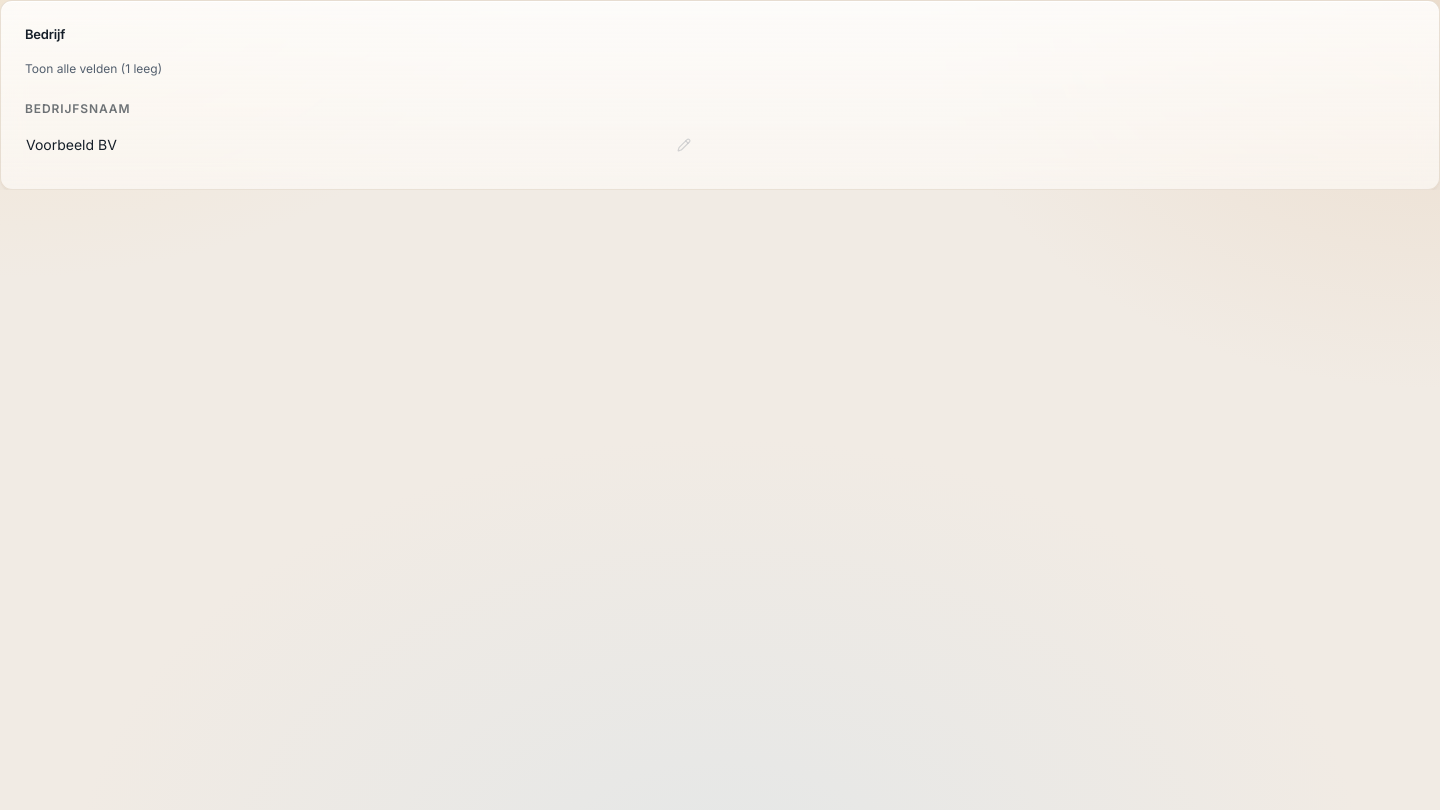
Test case: Direct bewerken Relaties: klik op afzonderlijke veldwaarde › toont gevulde velden en biedt lege velden compact op aanvraag
This screenshot has width=1440, height=810.
Later steps or results of the test are not shown.
Expected: the button with aria-label "Wijzig Bedrijfsnaam" reads "Voorbeeld BV", [17,124,700,164]
Click the button "Toon alle velden (1 leeg)" at (94, 68), box [25,60,162,76]
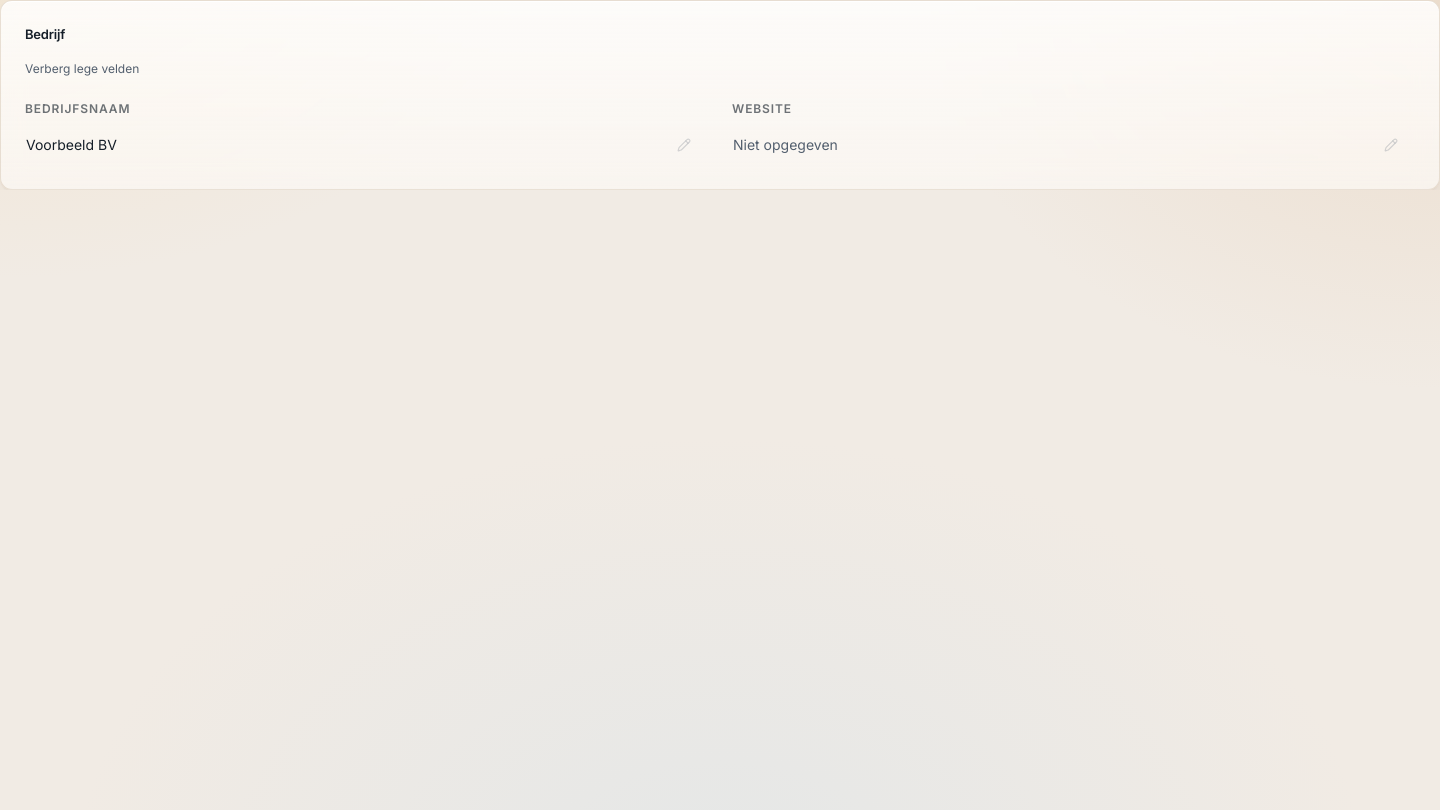
Now the button with aria-label "Wijzig Website" reads "Niet opgegeven", box [724,124,1407,164]
